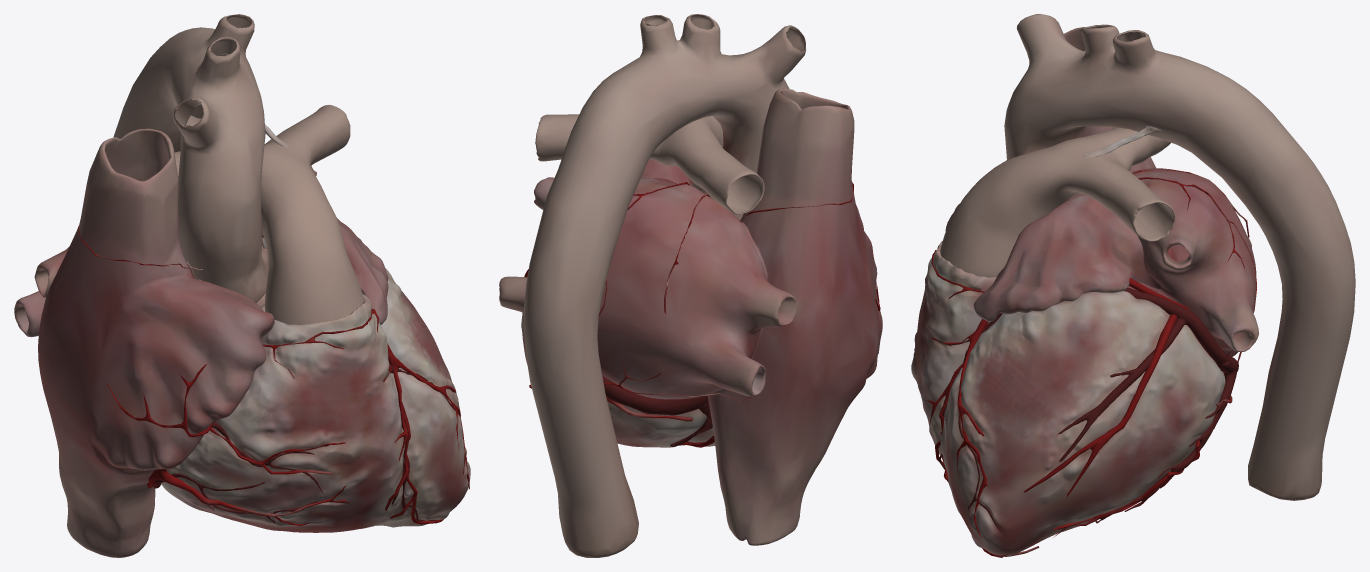
Rendered from heart.glb.
The picture shows the model from 3 angles, left to right: view 1: azimuth 30°, elevation 25°; view 2: azimuth 150°, elevation 25°; view 3: azimuth 270°, elevation 25°; orthographic projection. The views are drawn at different scales.
Visible parts, largest first — view 1: MM634_BP51951_FMA4706_Coronary_sinus835; view 2: MM634_BP51951_FMA4706_Coronary_sinus835; view 3: MM634_BP51951_FMA4706_Coronary_sinus835.
Part boxes in pixels (x1,y1,x2,y2): MM634_BP51951_FMA4706_Coronary_sinus835: (14,14,470,557); MM634_BP51951_FMA4706_Coronary_sinus835: (499,14,882,557); MM634_BP51951_FMA4706_Coronary_sinus835: (911,14,1355,557).
Size of the model in its own units: 21.31 by 29.15 by 24.32.
